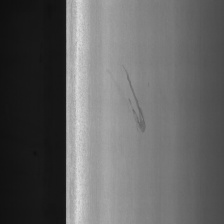water_spot: (115, 61, 152, 140)
